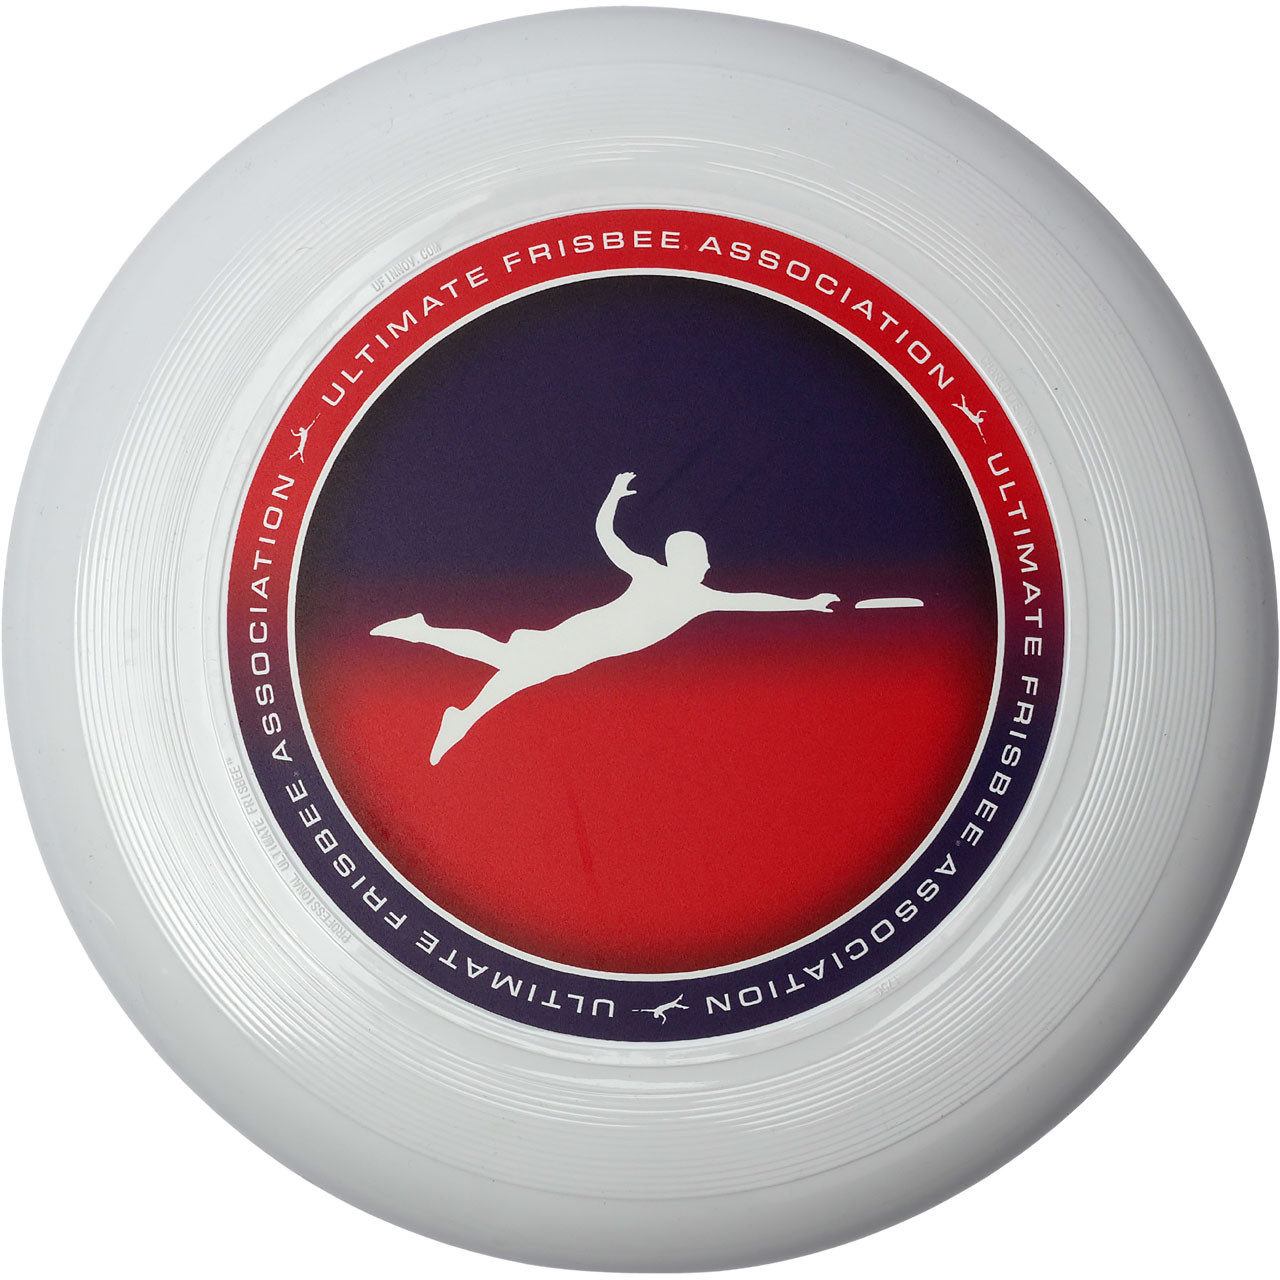disc: (7, 0, 1280, 1278)
